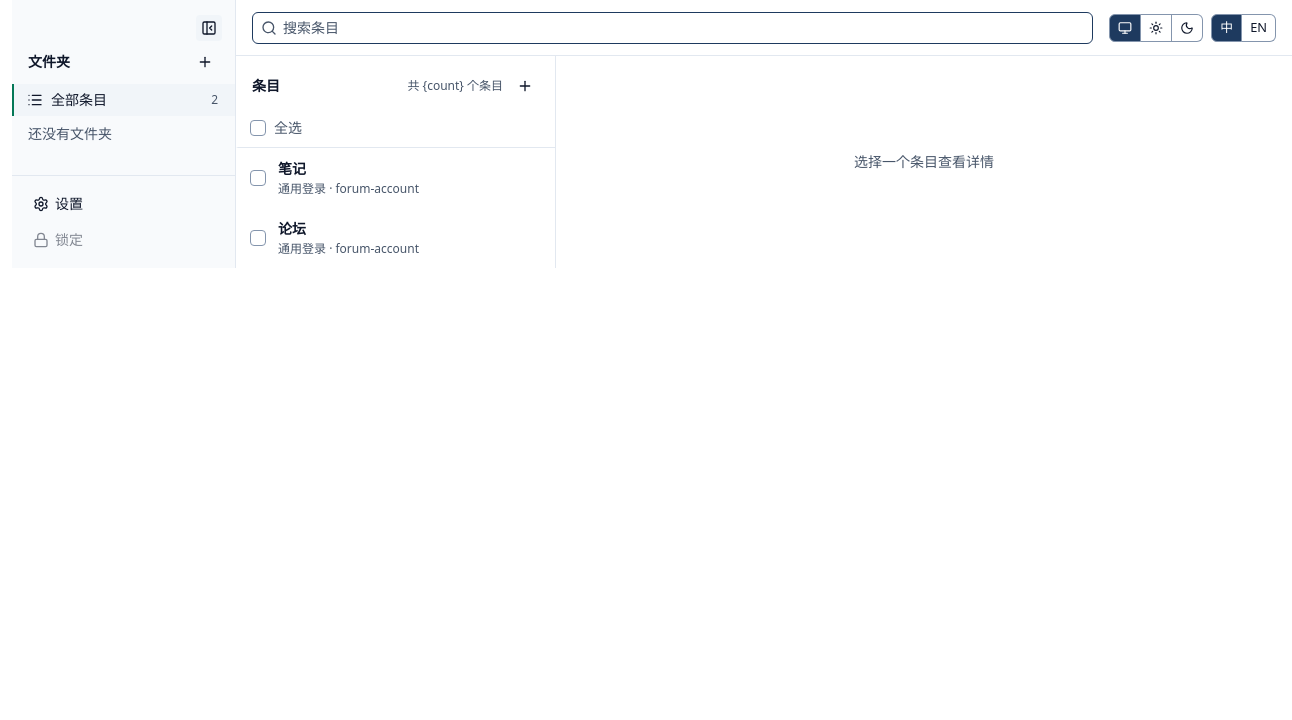
Test: 工作区里的 Markdown 备注 › 选中 Markdown 备注的条目, 详情里渲染成标题与列表, 切到纯文本条目后原样显示
Click the button "笔记 通用登录 · forum-account" at [412, 178], box [270,148,555,208]
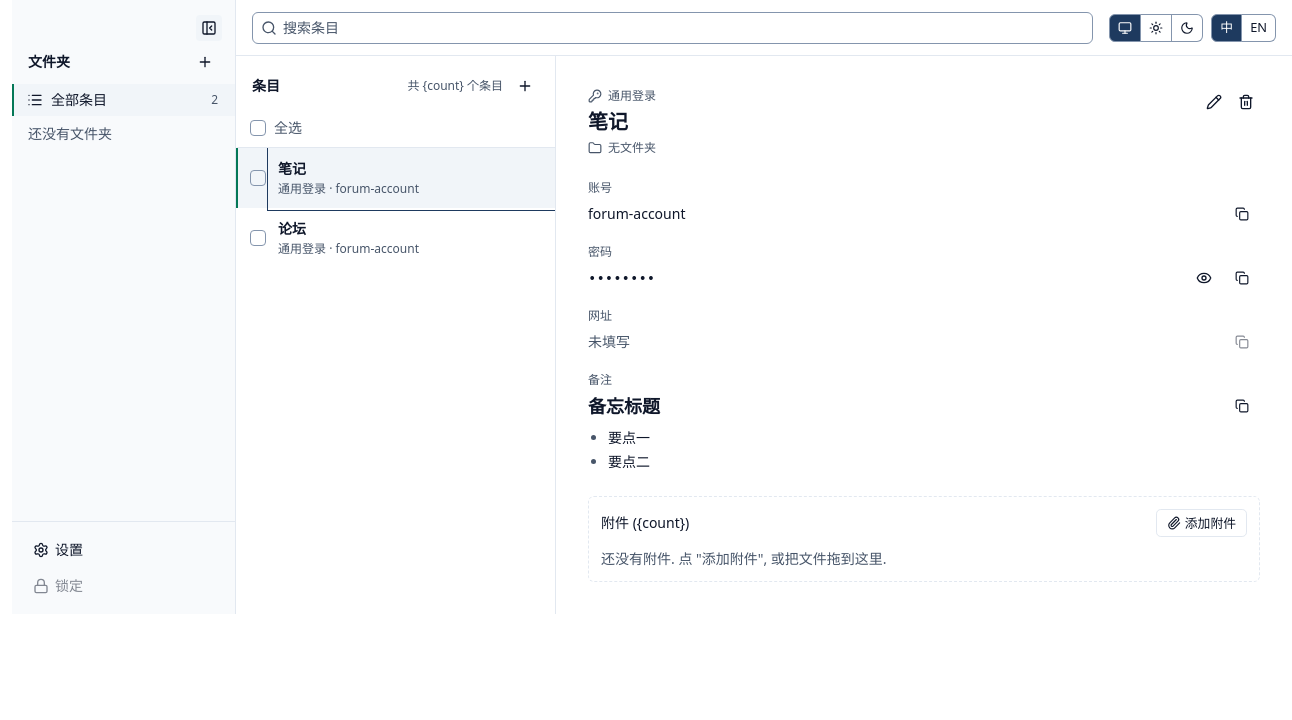
Now the heading "笔记" is shown, box [588,108,628,135]
Now the heading "备忘标题" is shown, box [588,394,660,418]
Click the button "论坛 通用登录 · forum-account" at [412, 238], box [270,208,555,268]
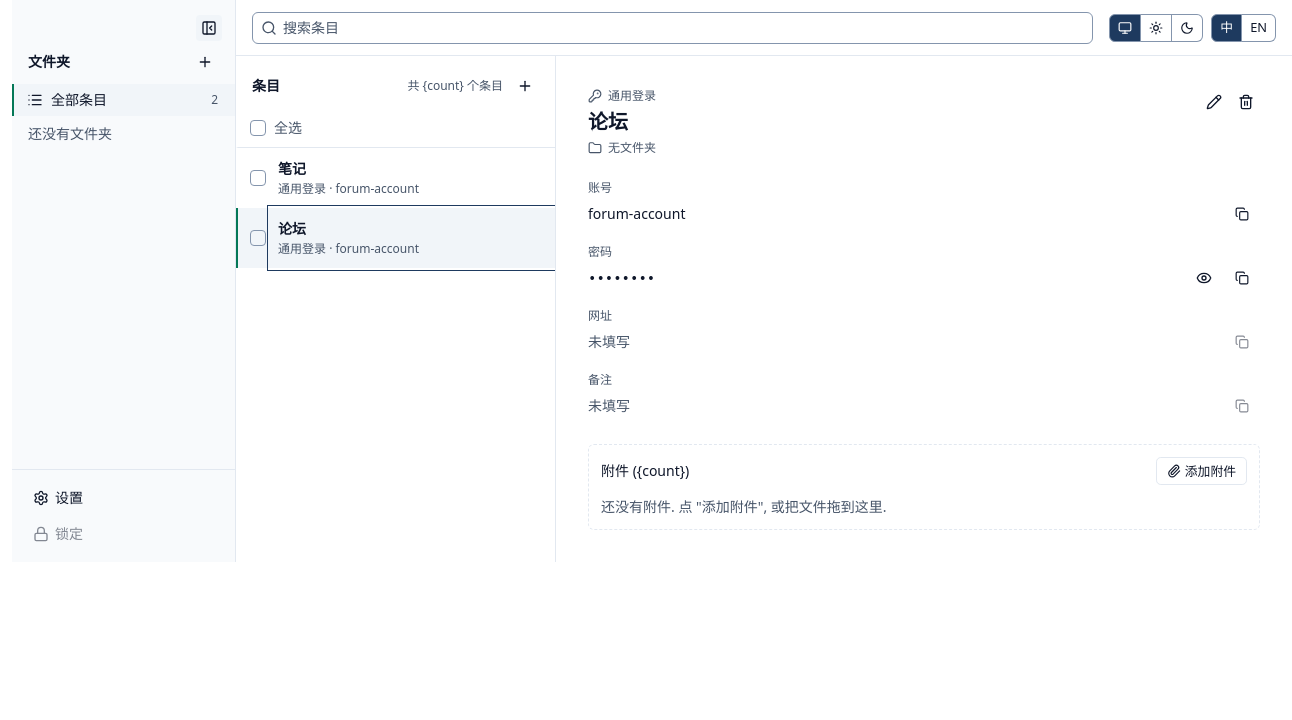
Now the heading "论坛" is shown, box [588,108,628,135]
Now the heading "备忘标题" is gone
Now no the list item "要点一" are shown
